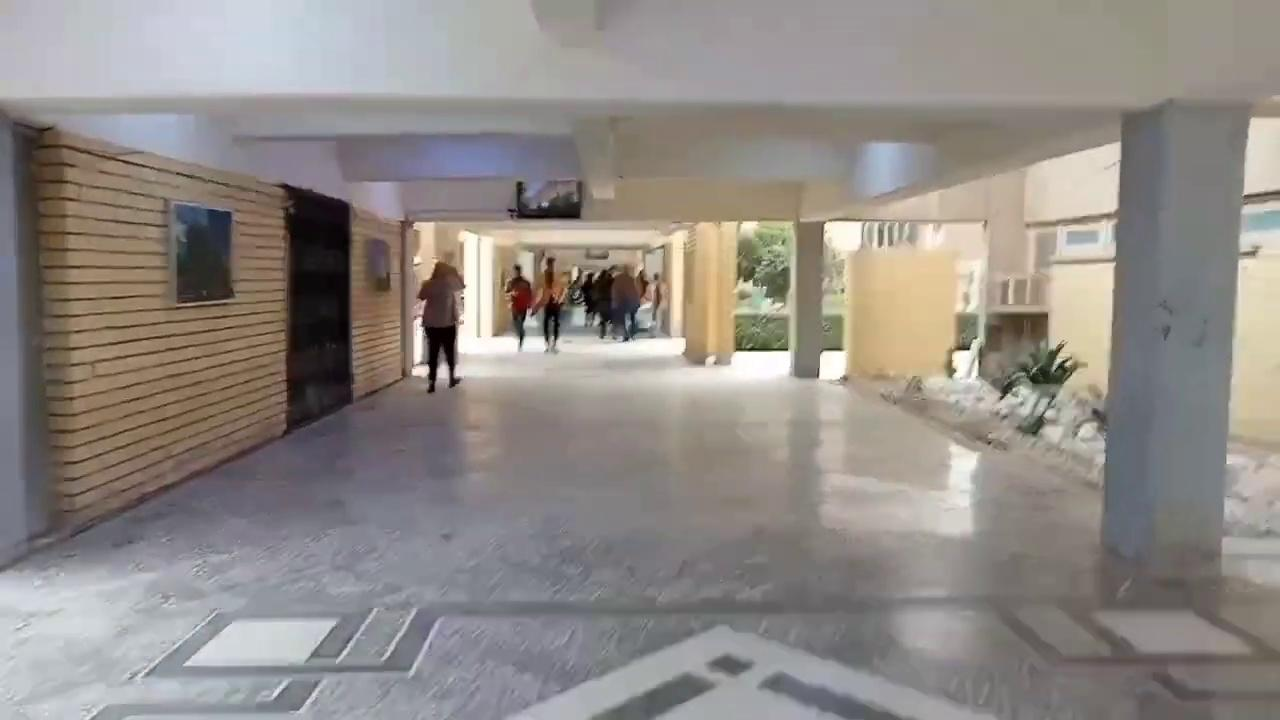person: (415, 261, 465, 392), (530, 271, 568, 353), (504, 264, 532, 351)
tree: (994, 336, 1086, 434), (727, 222, 811, 312)
